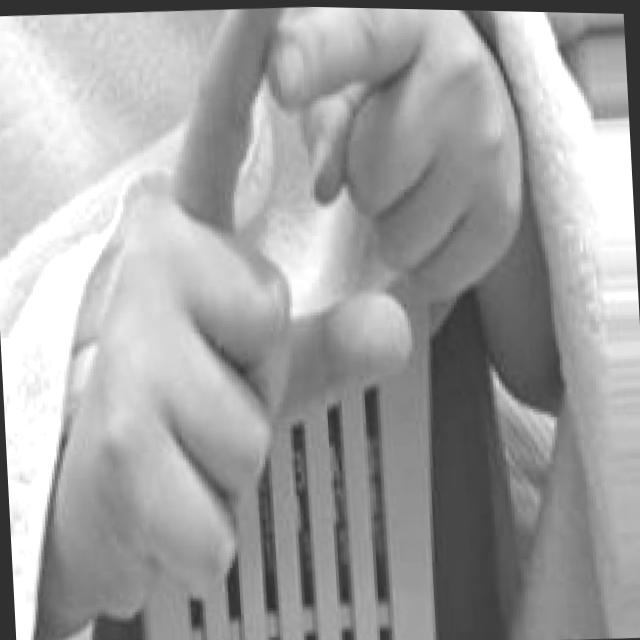J: (32, 1, 543, 640)
